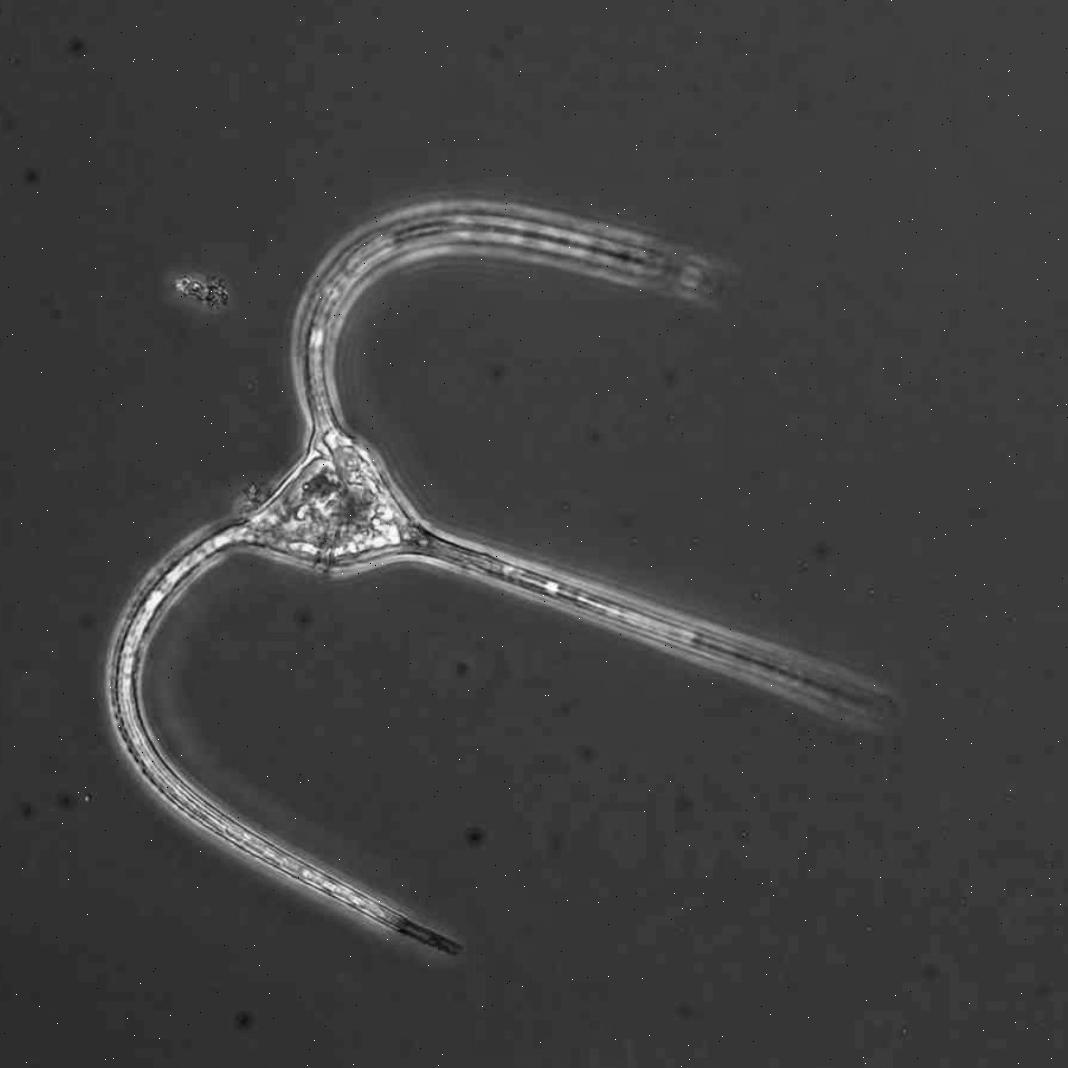ceratium_trichorecos: (108, 209, 904, 956)
